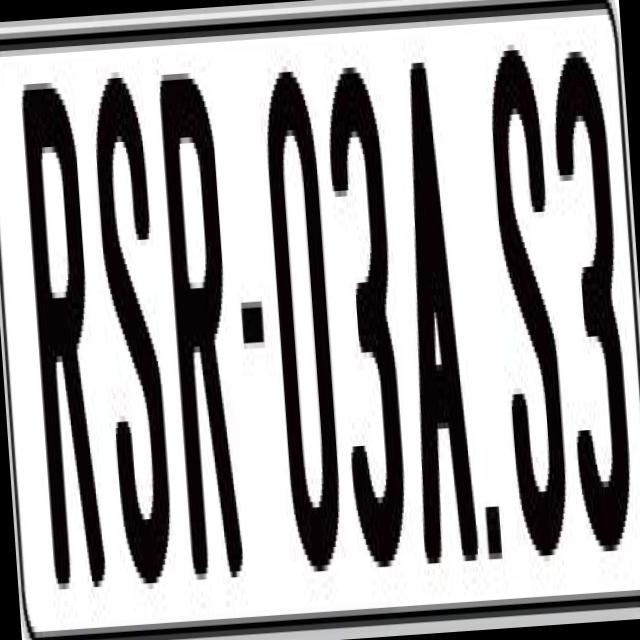0: (256, 64, 350, 602)
3: (546, 38, 636, 558), (322, 54, 411, 562)
A: (388, 54, 482, 586)
R: (17, 63, 112, 601), (154, 59, 246, 586)
S: (89, 70, 181, 602), (482, 42, 572, 563)
